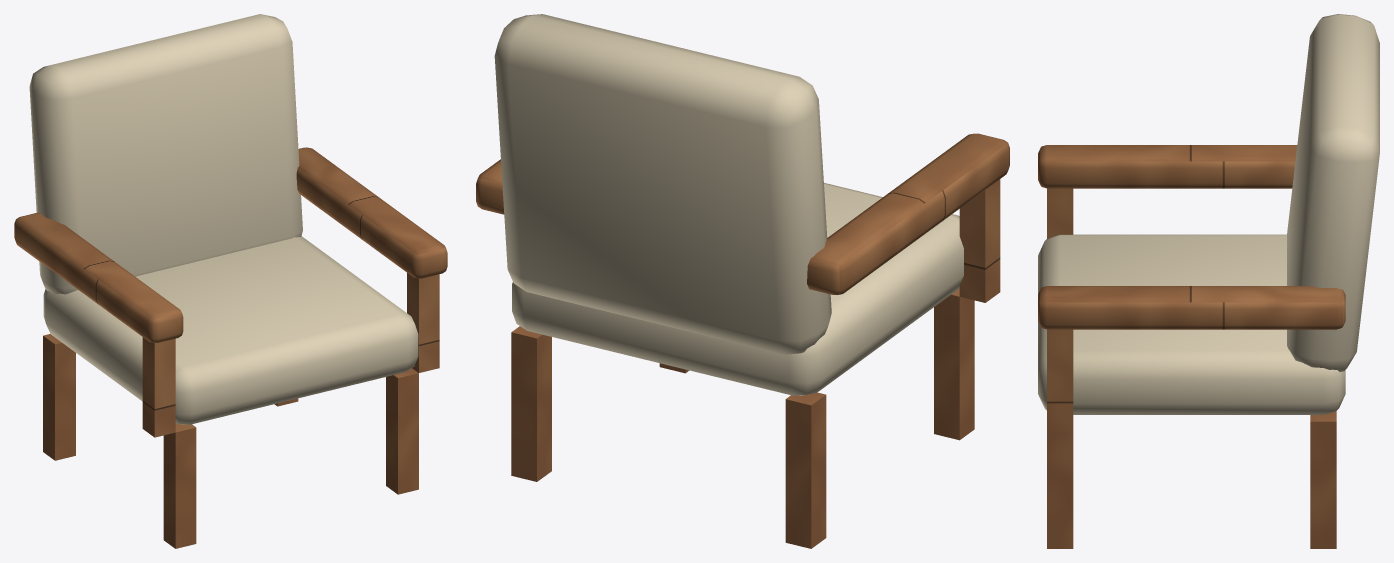
The model's file is armchair.gltf.
3 renders of one model, left to right at view 1: azimuth 30°, elevation 25°; view 2: azimuth 150°, elevation 25°; view 3: azimuth 270°, elevation 25°, orthographic. The views are drawn at different scales.
Visible parts, largest first — view 1: armchair_mesh; view 2: armchair_mesh; view 3: armchair_mesh.
Part boxes in pixels (left/top/right/bottom): armchair_mesh: left=14, top=14, right=447, bottom=548; armchair_mesh: left=476, top=14, right=1009, bottom=548; armchair_mesh: left=1038, top=14, right=1379, bottom=548.
Size of the model in its own units: 0.86 by 1.04 by 0.7781.
Materials: 2 (1 with a texture image).
